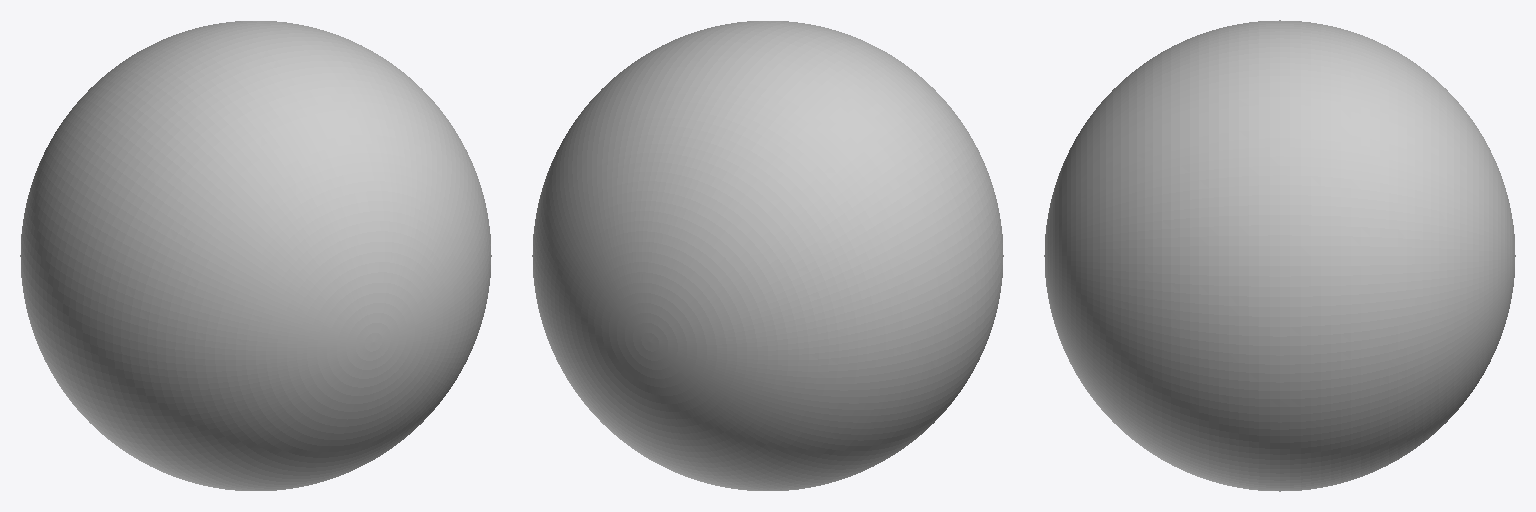
Rendered from newuntexturedgolfball.obj.
3 views of the same model, side by side, from view 1: azimuth 30°, elevation 25°; view 2: azimuth 150°, elevation 25°; view 3: azimuth 270°, elevation 25° (orthographic).
Parts seen in each view (by area): view 1: mesh0_meshnode_0; view 2: mesh0_meshnode_0; view 3: mesh0_meshnode_0.
Boxes of the visible parts, box(x1,y1,x2,y2) form: mesh0_meshnode_0: box(20, 21, 491, 490); mesh0_meshnode_0: box(532, 21, 1003, 490); mesh0_meshnode_0: box(1044, 20, 1515, 491).
Bounding box in the file's own units: 2 × 2 × 2.